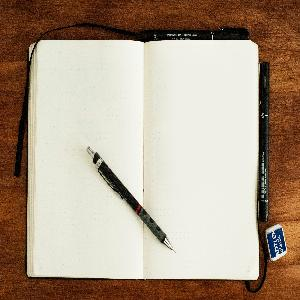pen: (83, 145, 178, 255)
